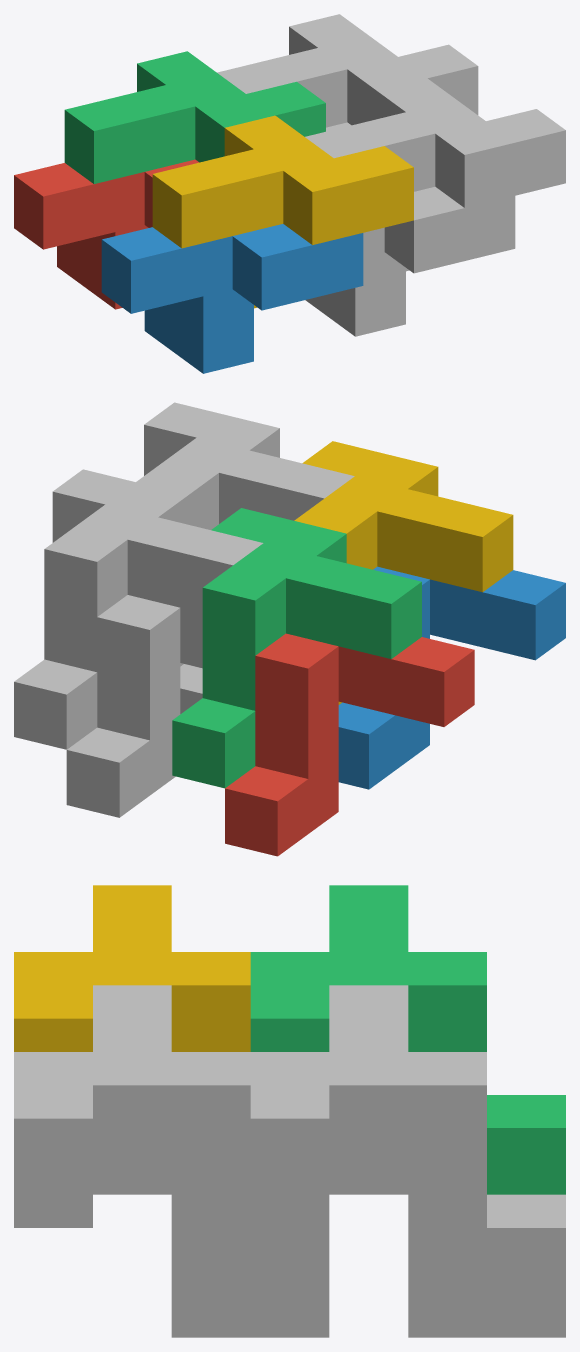
Rendered from tiling.obj.
3 renders of one model, top to bottom at view 1: azimuth 30°, elevation 25°; view 2: azimuth 150°, elevation 25°; view 3: azimuth 270°, elevation 25°, orthographic. The views are drawn at different scales.
Visible parts, largest first — view 1: copy_1_domain_2, copy_1_domain_4, copy_1_domain_3, copy_1_domain_8, copy_1_domain_7, copy_1_domain_6, copy_1_domain_1; view 2: copy_1_domain_3, copy_1_domain_7, copy_1_domain_1, copy_1_domain_5, copy_1_domain_4, copy_1_domain_8, copy_1_domain_2, copy_1_domain_6; view 3: copy_1_domain_7, copy_1_domain_8, copy_1_domain_3, copy_1_domain_4, copy_1_domain_5, copy_1_domain_6.
Boxes of the visible parts, x1,y1,x2,y2 form: copy_1_domain_2: (101,224,363,373); copy_1_domain_4: (152,115,413,308); copy_1_domain_3: (64,51,325,183); copy_1_domain_8: (305,78,565,271); copy_1_domain_7: (217,14,478,127); copy_1_domain_6: (305,186,515,336); copy_1_domain_1: (14,159,198,309); copy_1_domain_3: (172,508,421,788); copy_1_domain_7: (14,469,263,749); copy_1_domain_1: (225,633,474,856); copy_1_domain_5: (66,595,202,817); copy_1_domain_4: (294,441,513,704); copy_1_domain_8: (136,402,354,666); copy_1_domain_2: (338,566,565,789); copy_1_domain_6: (180,664,202,713); copy_1_domain_7: (250,985,565,1299); copy_1_domain_8: (14,985,329,1299); copy_1_domain_3: (250,885,565,1194); copy_1_domain_4: (14,885,250,1051); copy_1_domain_5: (250,1156,565,1337); copy_1_domain_6: (14,1156,329,1337).
Bounding box in the file's own units: 8 × 4 × 7.
